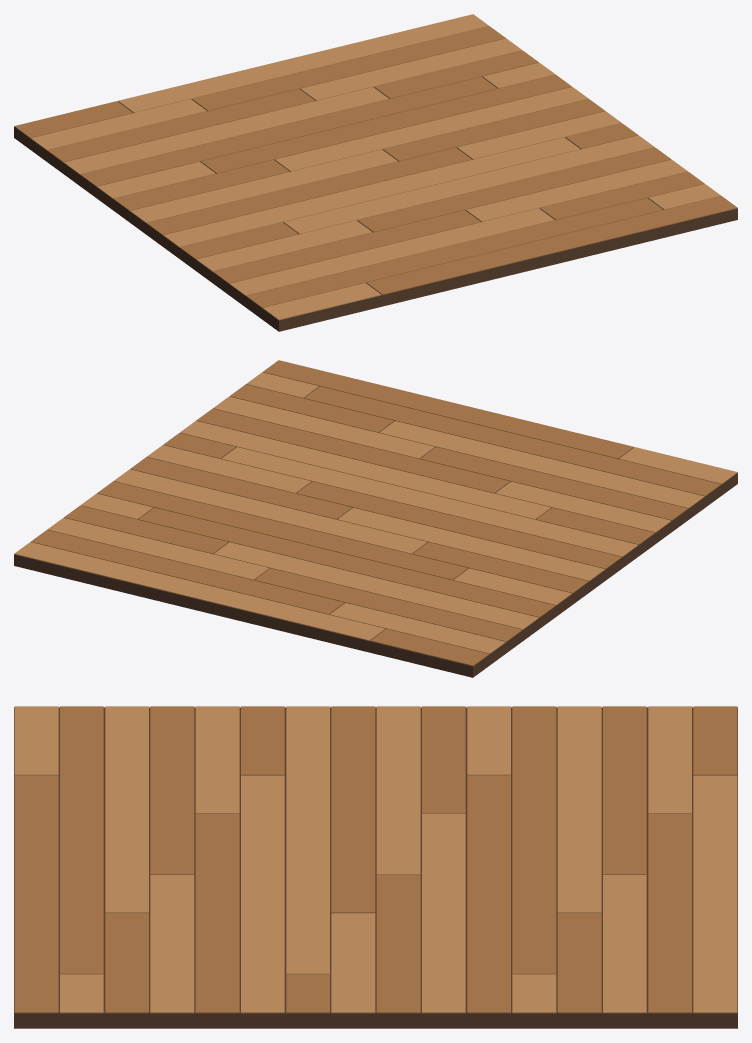
File: floor_planks.34fd8e3d0ae1.glb
The picture shows the model from 3 angles, top to bottom: view 1: azimuth 30°, elevation 25°; view 2: azimuth 150°, elevation 25°; view 3: azimuth 270°, elevation 25°; orthographic projection. The views are drawn at different scales.
Parts seen in each view (by area): view 1: floor_planks; view 2: floor_planks; view 3: floor_planks.
Part boxes in pixels (left/top/right/bottom): floor_planks: left=14, top=14, right=737, bottom=331; floor_planks: left=14, top=360, right=737, bottom=677; floor_planks: left=14, top=706, right=737, bottom=1028.
Size of the model in its own units: 4 by 0.1 by 4.
